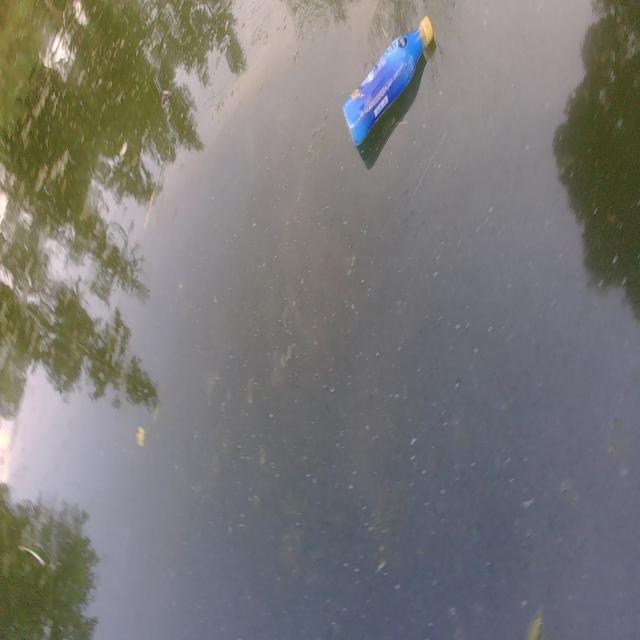bottle: (334, 5, 446, 165)
